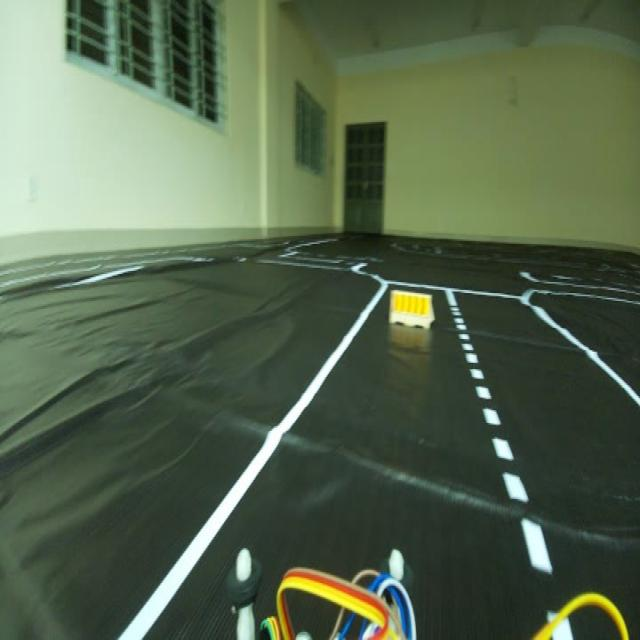roadblock: (385, 282, 433, 337)
